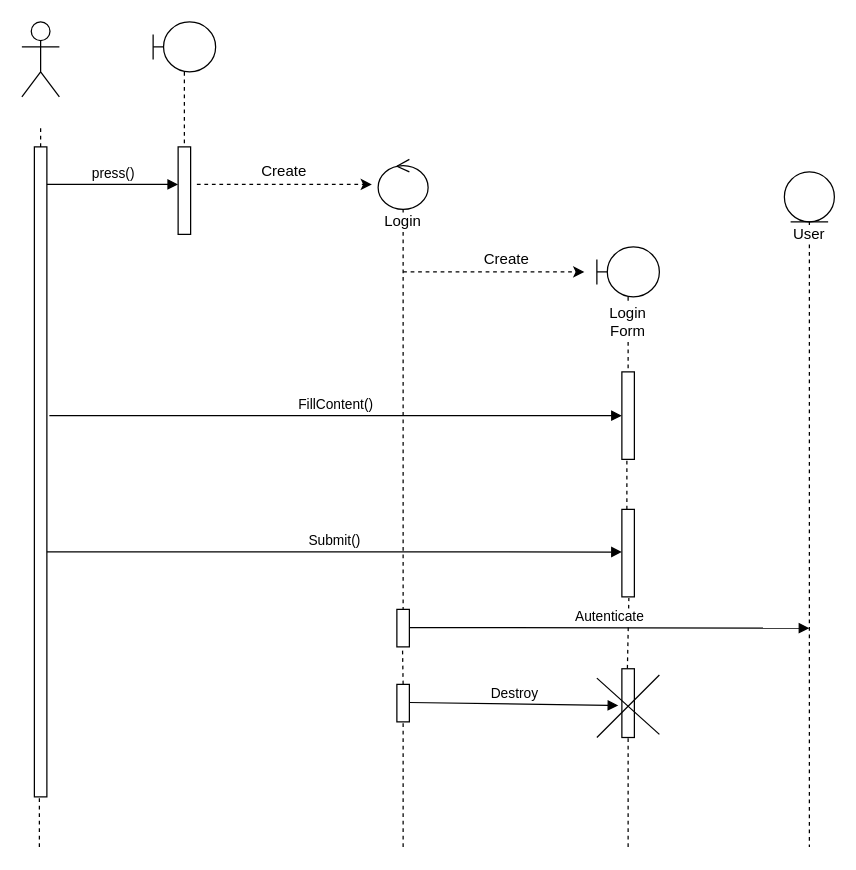
Some shapes in this 856 by 870 pixel diagram are drawn without their labels. The shapes that lost their labels are listed below. From the top down, each one's centre as x and y in pixels, then its label:
pixel 40 59: Actor
pixel 184 84: Login Button
